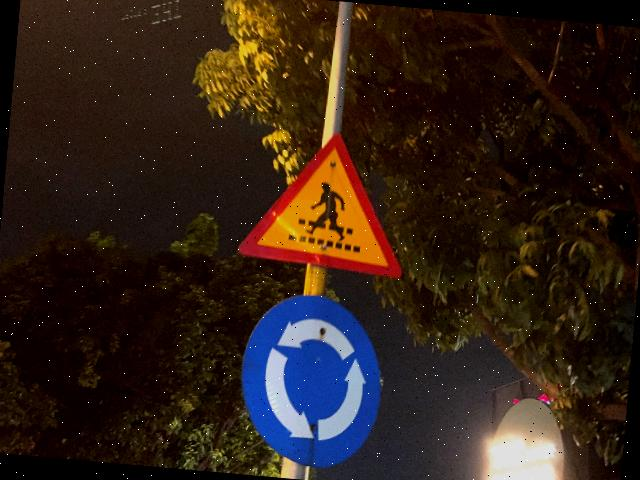duong-nguoi-di-bo-cat-ngang: (235, 123, 414, 280)
noi-giao-nhau-chay-theo-vong-xuyen: (232, 287, 388, 473)
